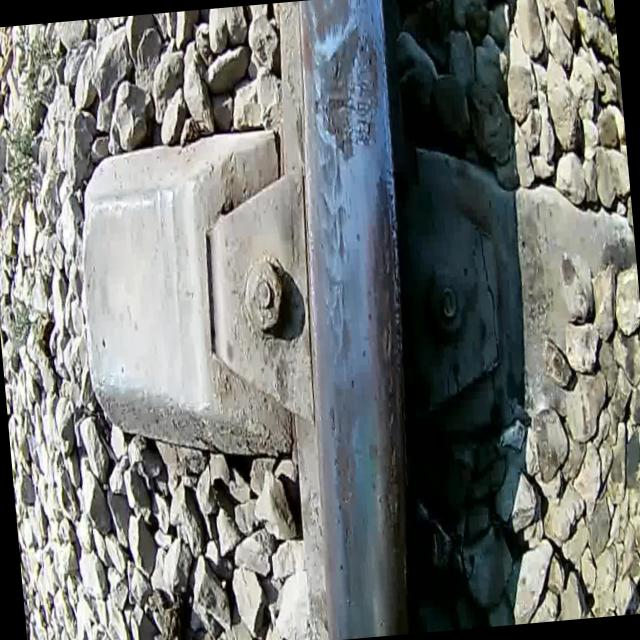Flakings: (363, 192, 432, 634)
Spallings: (315, 36, 386, 161)
Squats: (316, 361, 394, 614), (291, 0, 396, 168), (313, 152, 362, 370), (340, 624, 368, 639)
